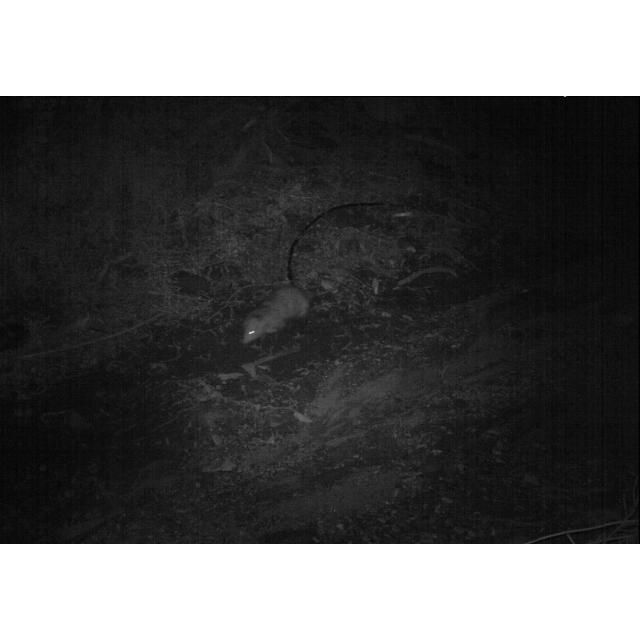animals: (238, 284, 310, 348)
